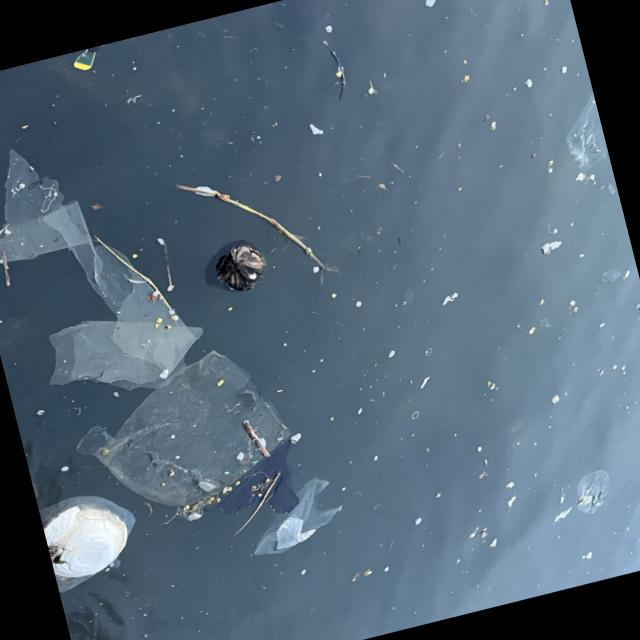foam: (40, 497, 135, 584)
plastic bag: (83, 352, 291, 508), (257, 469, 338, 565)
